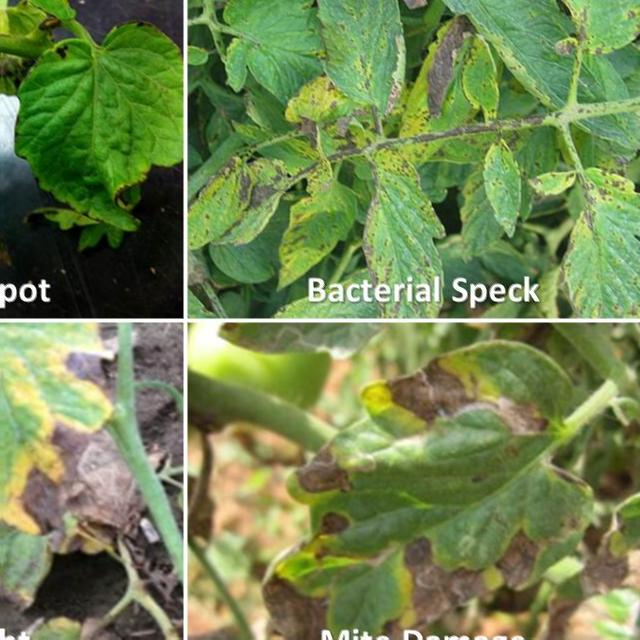Tomato Early blight leaf: (0, 30, 180, 261), (0, 334, 128, 640), (435, 0, 631, 156), (344, 126, 451, 314), (520, 158, 640, 311), (301, 0, 415, 132), (469, 119, 540, 236), (454, 26, 505, 117), (0, 32, 4, 300)
